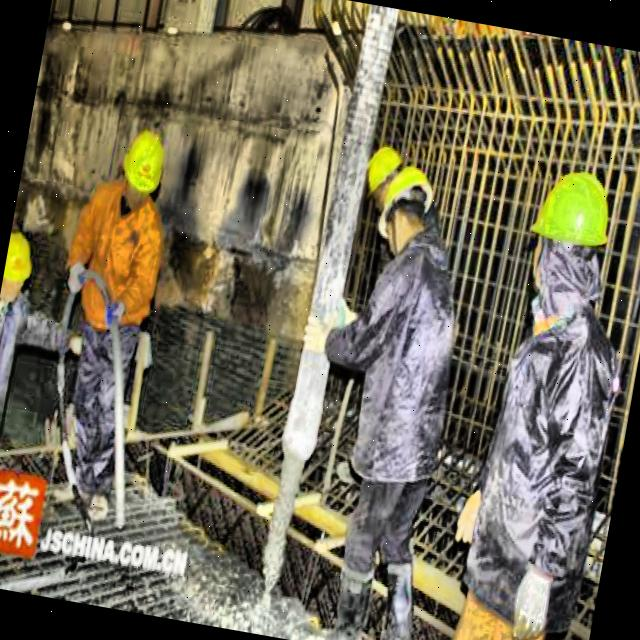helmet: (516, 155, 621, 316), (370, 158, 440, 256), (115, 122, 172, 212), (356, 143, 408, 211), (0, 232, 41, 311)
